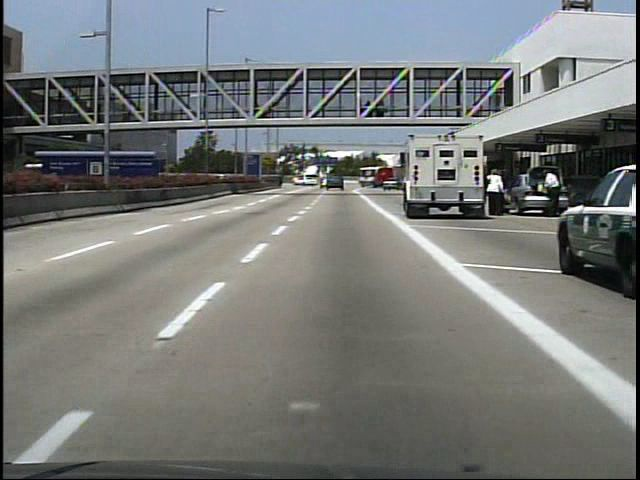person: (486, 162, 511, 219), (539, 165, 563, 216)
